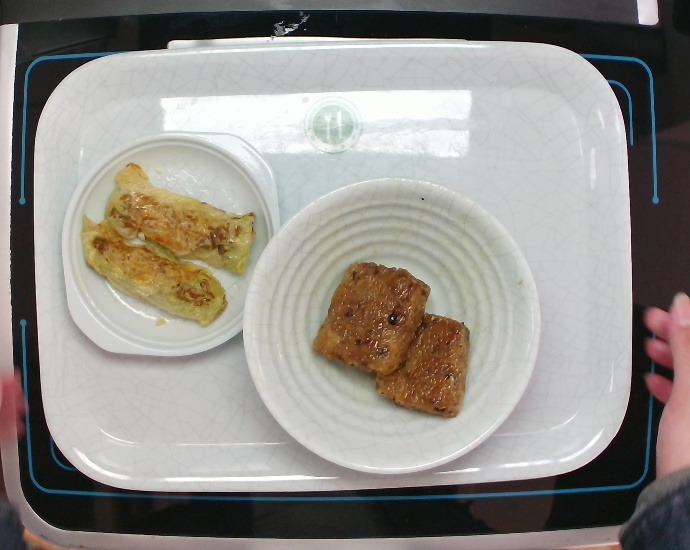JYsf-Shuang_Er_Pan: (58, 130, 284, 359)
JYsf-Xiao_Tang_Wan: (241, 175, 543, 476)
